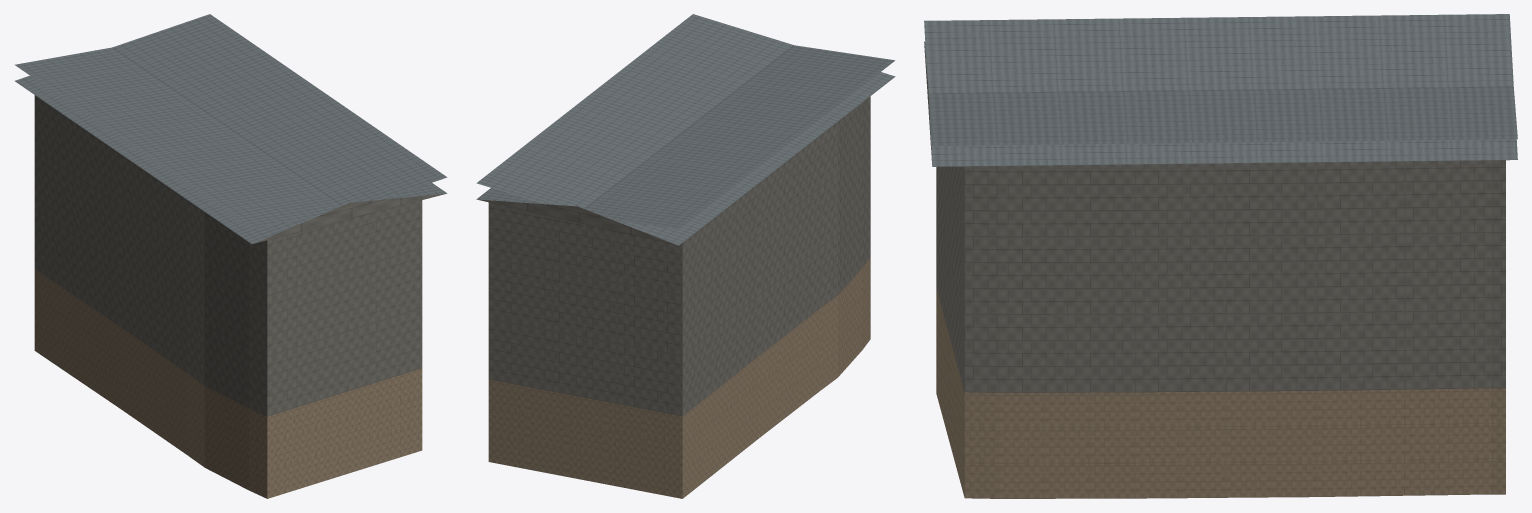
Rendered from bld_c9_17_441.gltf.
3 views of the same model, side by side, from view 1: azimuth 30°, elevation 25°; view 2: azimuth 150°, elevation 25°; view 3: azimuth 270°, elevation 25° (orthographic). The views are drawn at different scales.
Parts seen in each view (by area): view 1: bld_c9_17_441; view 2: bld_c9_17_441; view 3: bld_c9_17_441.
Boxes of the visible parts, <box> form: bld_c9_17_441: <box>14,14,447,498</box>; bld_c9_17_441: <box>476,14,895,498</box>; bld_c9_17_441: <box>924,14,1517,498</box>.
Size of the model in its own units: 13.6 by 17.3 by 25.84.
Materials: 4 (4 with a texture image).
